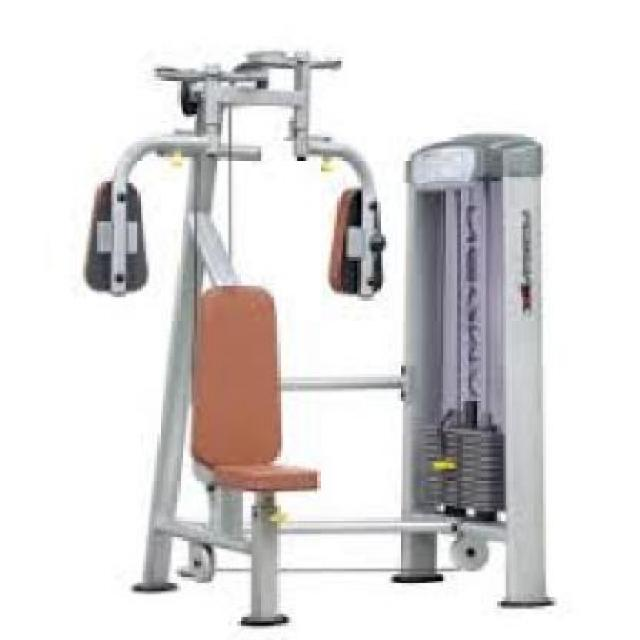chest fly machine: (77, 37, 555, 637)
